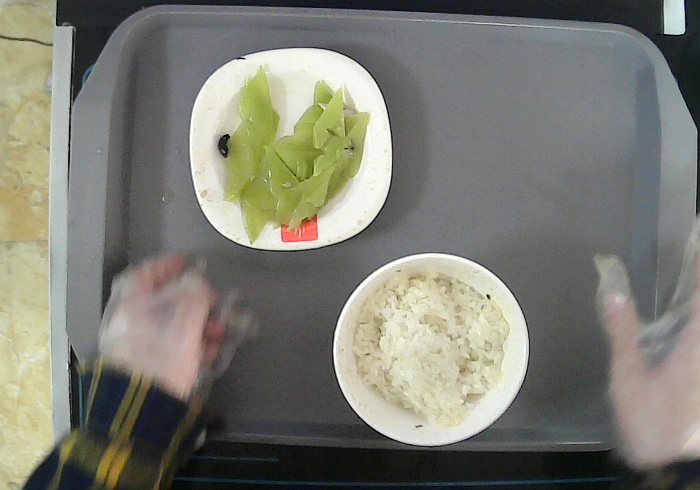SHKJ-Bai_Se_Si_Fang_Cai_Die: (187, 45, 394, 253)
SHKJ-Fan_Wan: (331, 250, 532, 450)
